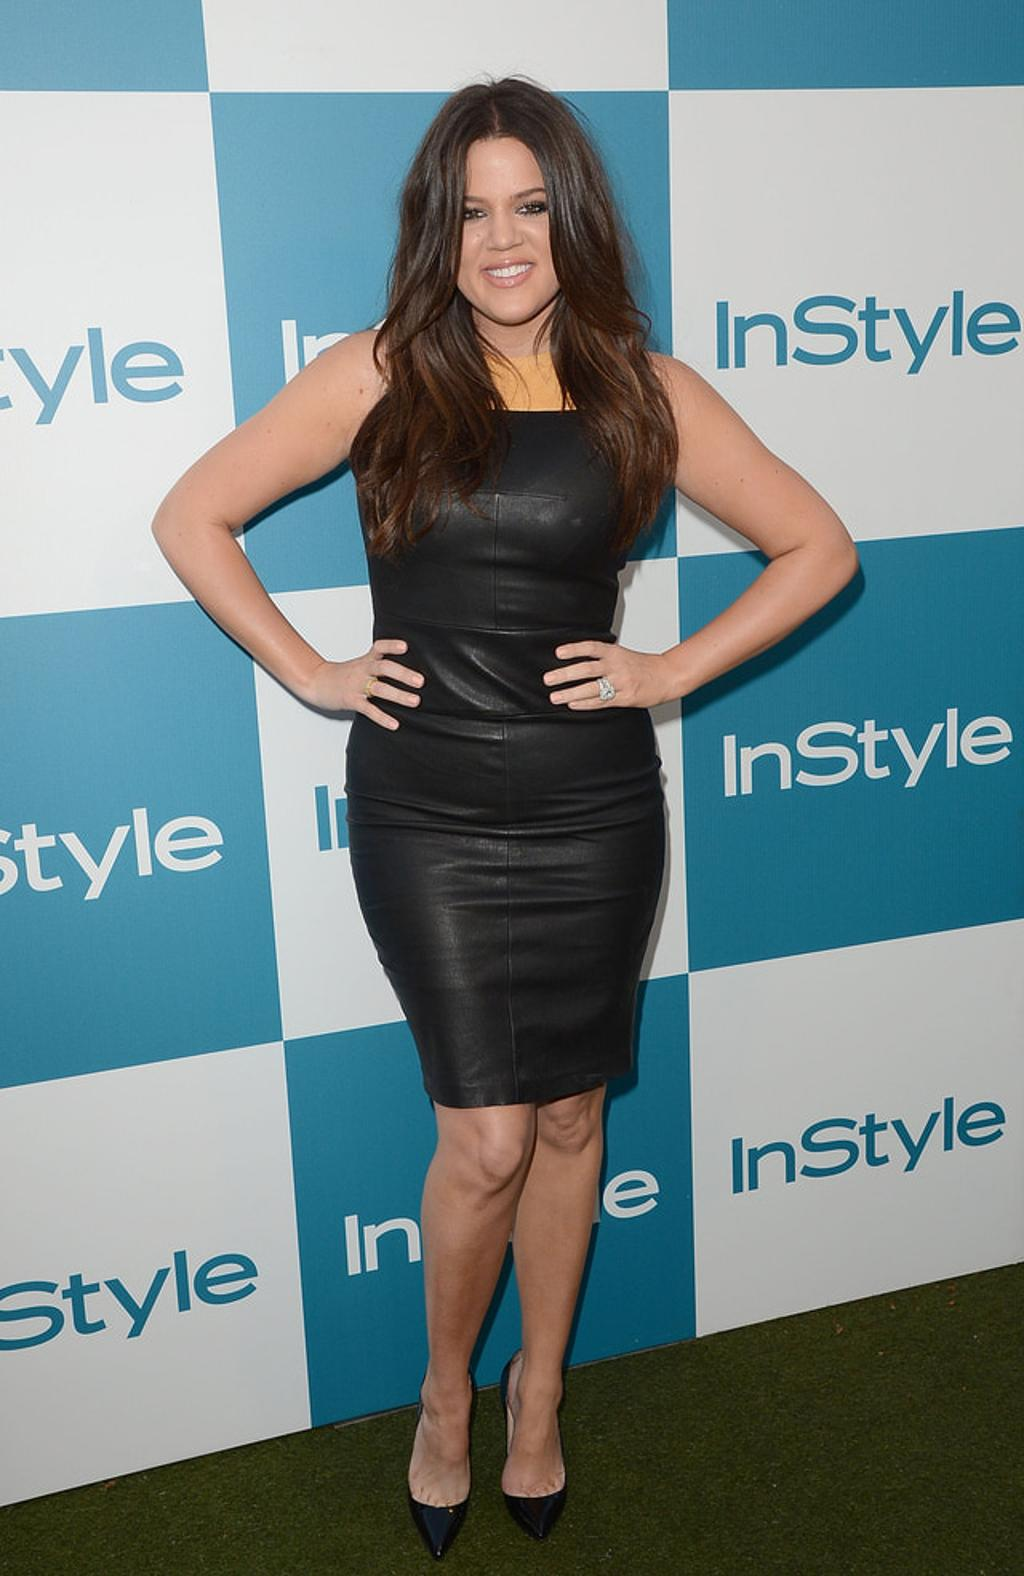face: (443, 132, 563, 326)
